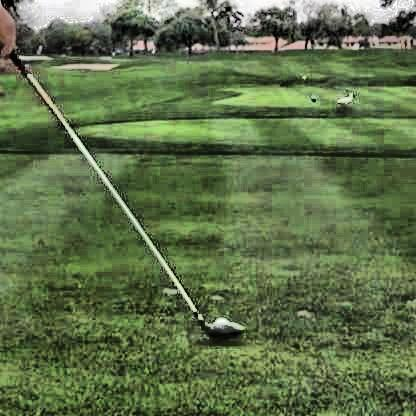golfball: (207, 315, 235, 338)
